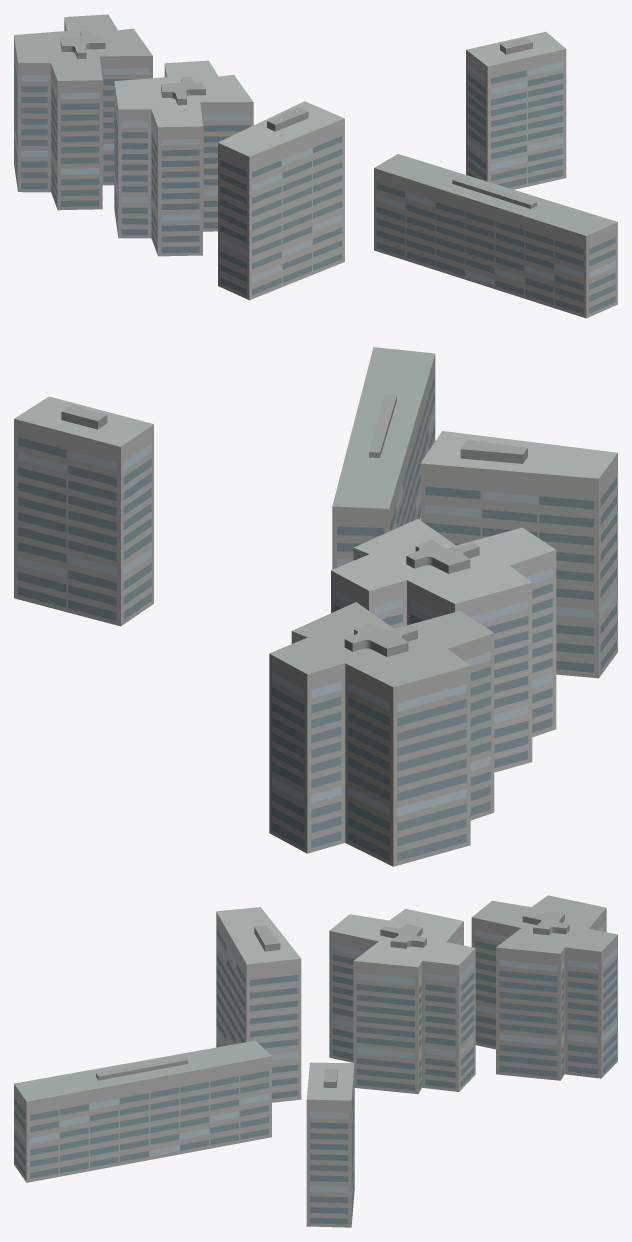
File: apt-a12010001.glb
3 views of the same model, one above another, from view 1: azimuth 30°, elevation 25°; view 2: azimuth 150°, elevation 25°; view 3: azimuth 270°, elevation 25° (orthographic). The views are drawn at different scales.
Visible parts, largest first — view 1: apt-a12010001; view 2: apt-a12010001; view 3: apt-a12010001.
Boxes of the visible parts, bbox=[...] form: apt-a12010001: bbox=[14, 14, 617, 318]; apt-a12010001: bbox=[14, 347, 617, 866]; apt-a12010001: bbox=[14, 895, 617, 1227].
Size of the model in its own units: 119 by 40 by 148.
